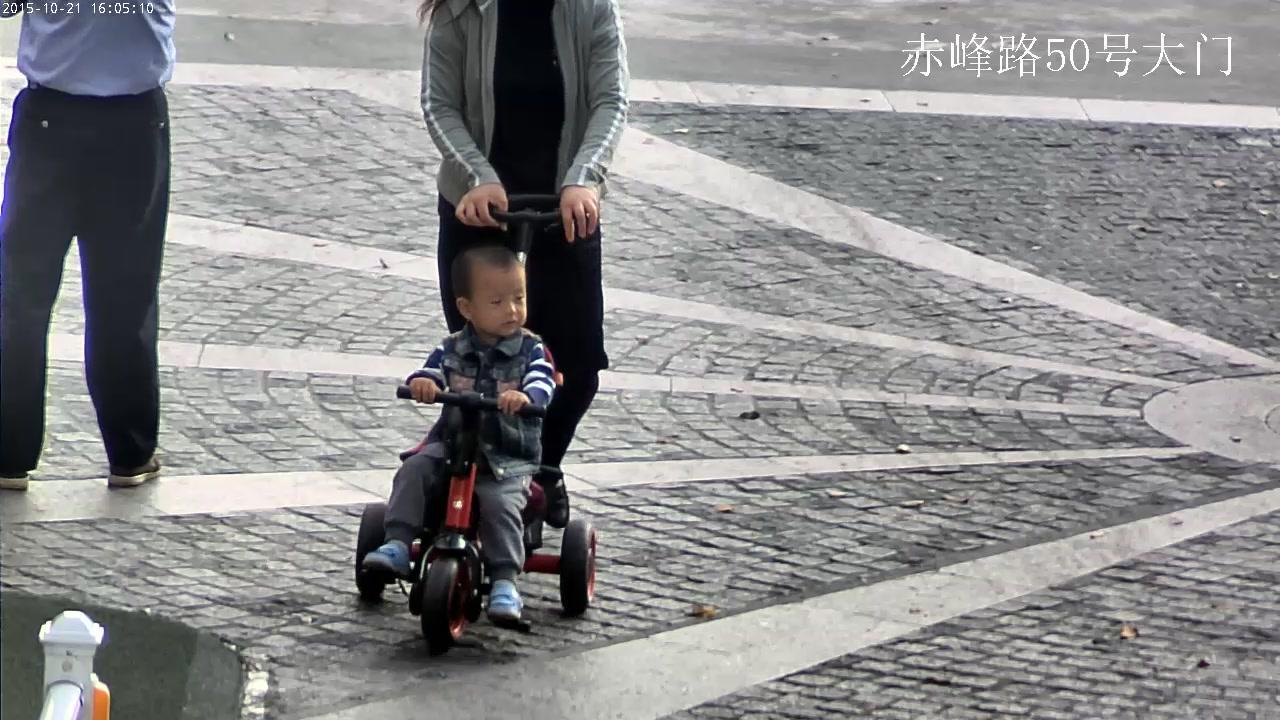person: (354, 0, 631, 650), (419, 0, 625, 528), (0, 3, 178, 492), (361, 243, 557, 620)
